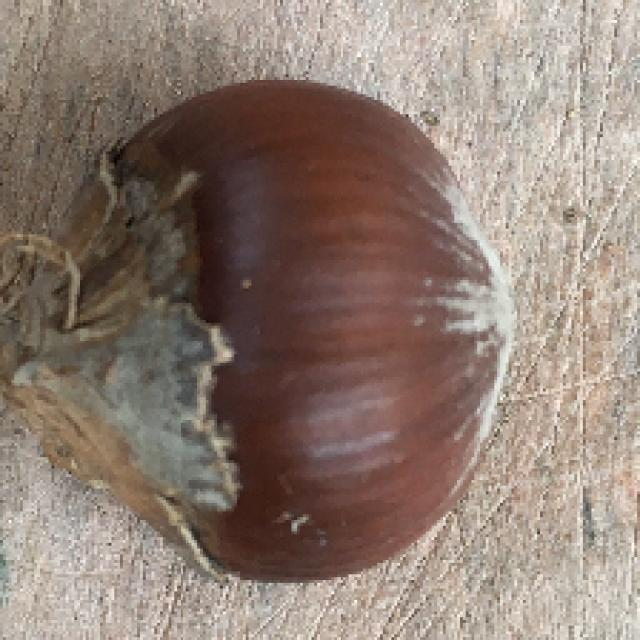damagedHazelnut: (0, 77, 525, 587)
